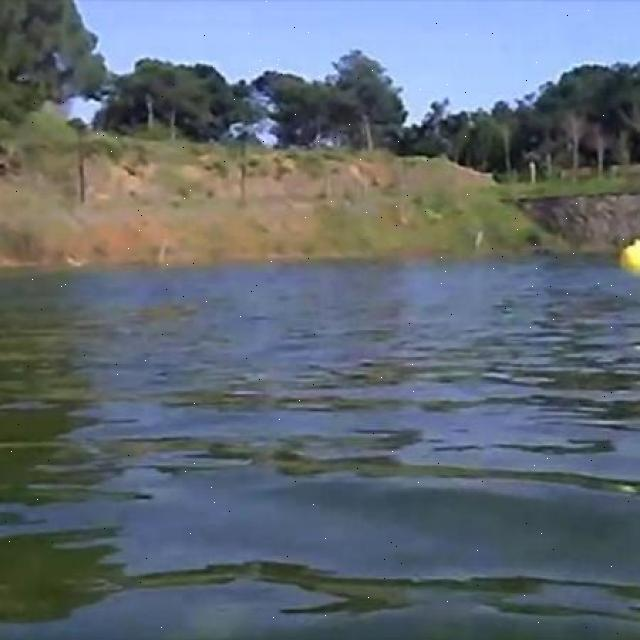buoy: (613, 237, 640, 276)
